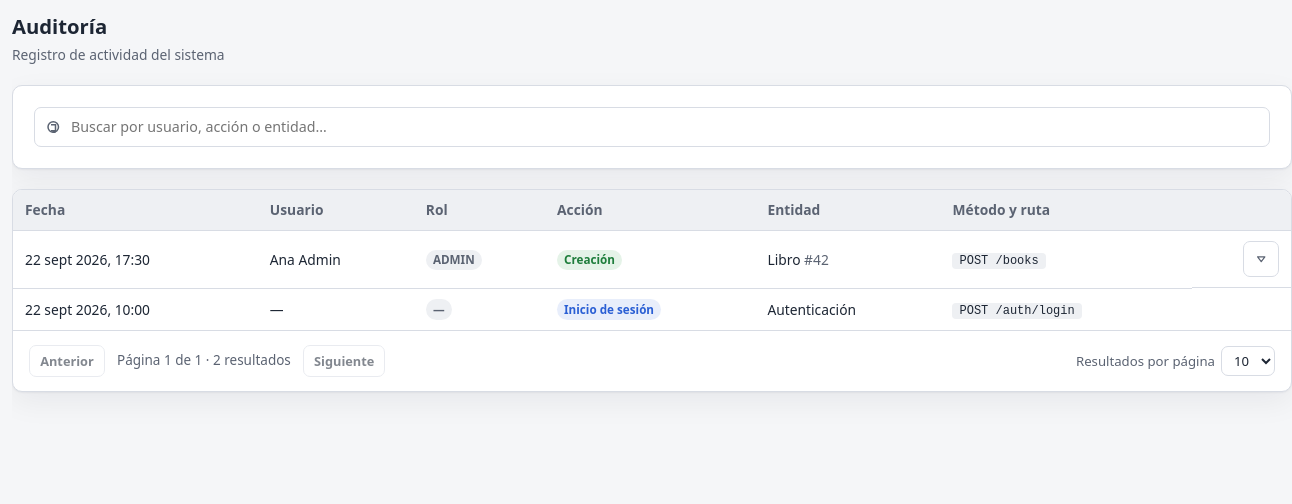
Scenario: AuditPage › expands an event to show its details as JSON
This screenshot has width=1292, height=504.
Expected: the text "Ana Admin" is shown, [258,231,414,288]
Click the button named "Ver detalles". click: (1261, 259)
box: [1243,241,1279,277]
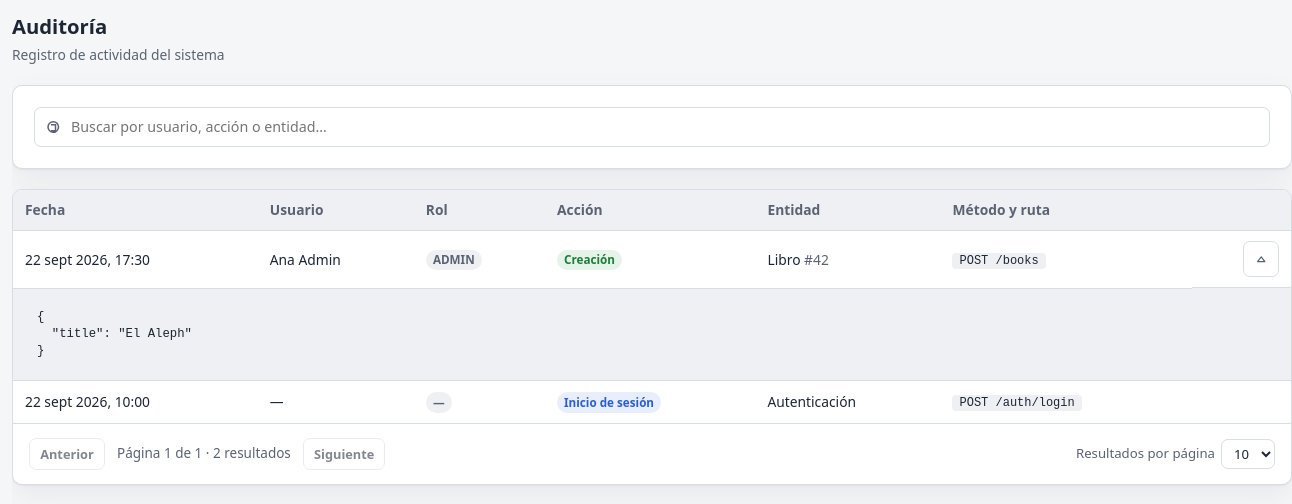
Expected: the text "{ \"title\": \"El Aleph\" }" is shown, [37,310,192,358]
Expected: the button named "Ocultar detalles" is shown, [1243,241,1279,277]
